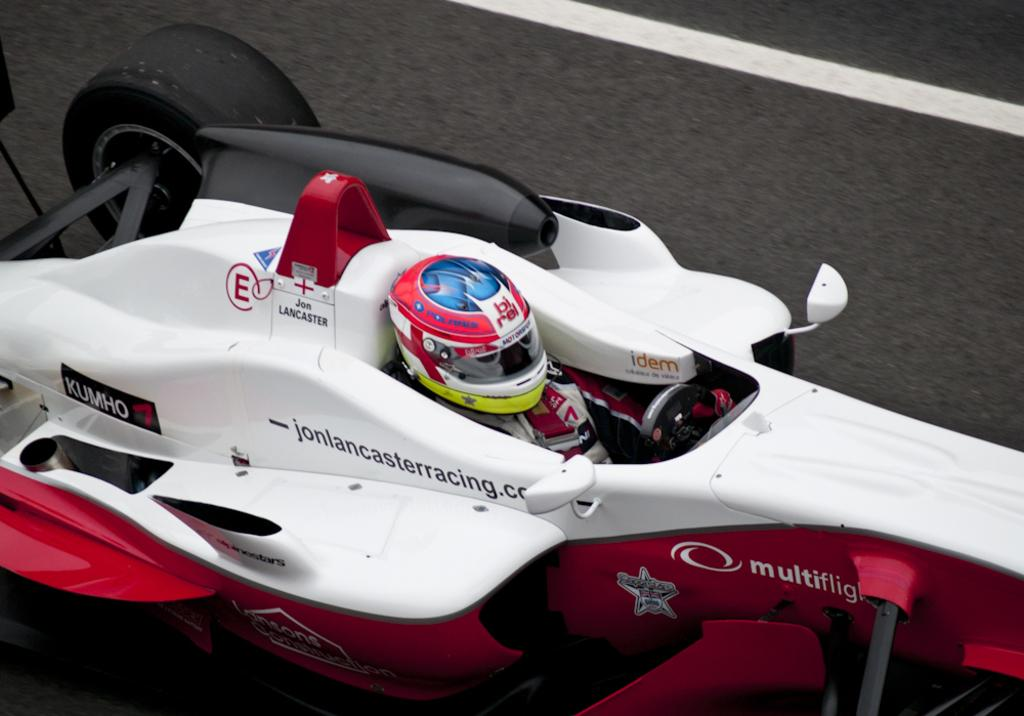helmet: (388, 253, 548, 416)
